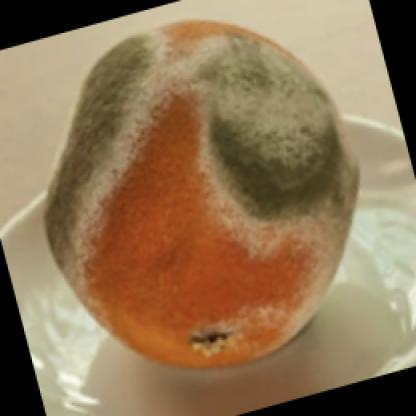rotten_orange: (40, 4, 360, 376)
